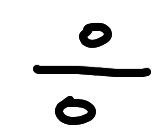div: (34, 23, 151, 127)
